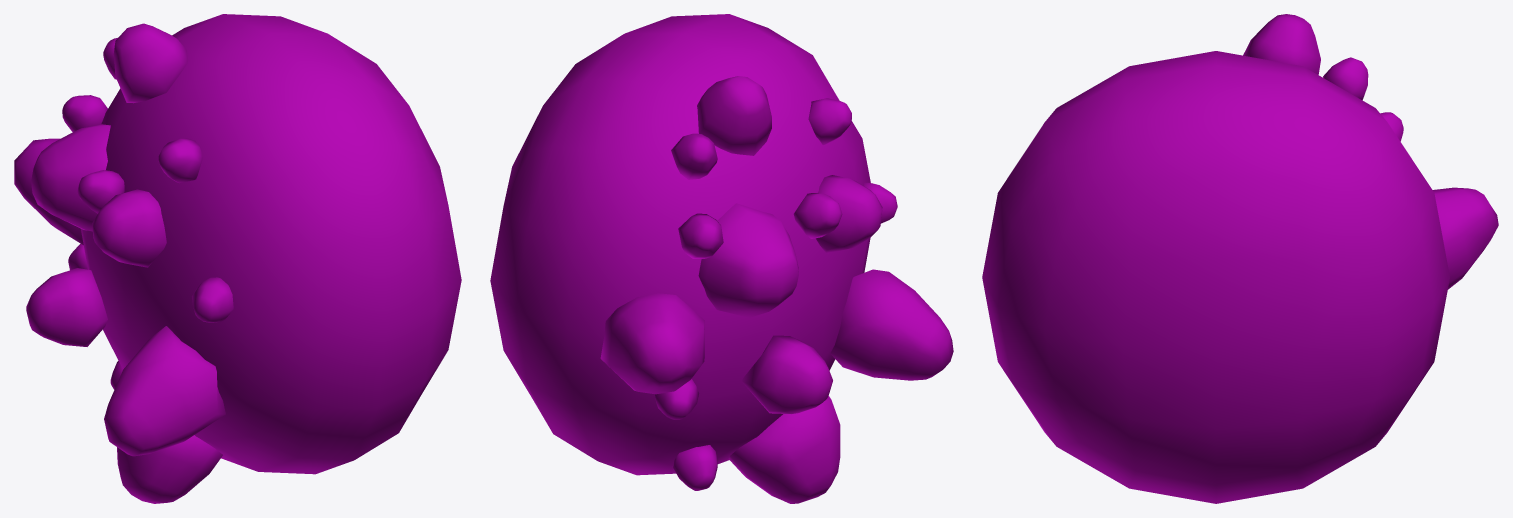
File: Barnacles_1.fbx
3 renders of one model, left to right at view 1: azimuth 30°, elevation 25°; view 2: azimuth 150°, elevation 25°; view 3: azimuth 270°, elevation 25°, orthographic.
Parts seen in each view (by area): view 1: Barnacle_Base, Barnacle6, Barnacle20, Barnacle18, Barnacle4, Barnacle5, Barnacle19, Barnacle3, Barnacle21, Barnacle15, Barnacle12, Barnacle10; view 2: Barnacle_Base, Barnacle6, Barnacle3, Barnacle20, Barnacle4, Barnacle18, Barnacle5, Barnacle19, Barnacle12, Barnacle16, Barnacle10, Barnacle17 (+3 smaller); view 3: Barnacle_Base, Barnacle3, Barnacle5, Barnacle16.
Part boxes in pixels (x1,y1,x2,y2): Barnacle_Base: (81, 14, 461, 474); Barnacle6: (104, 326, 225, 456); Barnacle20: (31, 124, 110, 231); Barnacle18: (26, 268, 107, 346); Barnacle4: (117, 435, 222, 503); Barnacle5: (113, 23, 187, 103); Barnacle19: (92, 189, 166, 267); Barnacle3: (14, 138, 83, 244); Barnacle21: (158, 138, 202, 183); Barnacle15: (192, 277, 233, 322); Barnacle12: (77, 170, 124, 213); Barnacle10: (62, 95, 107, 131); Barnacle_Base: (490, 14, 870, 475); Barnacle6: (830, 269, 953, 380); Barnacle3: (600, 293, 704, 394); Barnacle20: (698, 203, 798, 317); Barnacle4: (728, 395, 840, 503); Barnacle18: (741, 335, 832, 413); Barnacle5: (697, 76, 771, 155); Barnacle19: (816, 175, 882, 253); Barnacle12: (793, 193, 842, 238); Barnacle16: (671, 133, 717, 179); Barnacle10: (678, 213, 723, 258); Barnacle17: (672, 445, 717, 490); Barnacle_Base: (982, 51, 1449, 503); Barnacle3: (1433, 187, 1498, 289); Barnacle5: (1243, 14, 1320, 74); Barnacle16: (1323, 57, 1368, 100).
Size of the model in its own units: 12.05 by 14.21 by 14.9.
